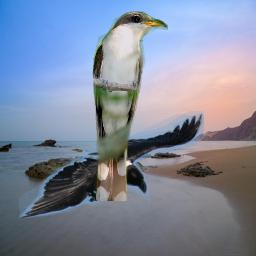Crow: (19, 111, 204, 218)
Cuckoo: (91, 10, 168, 201)
